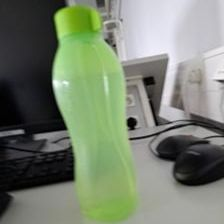bottle: (51, 3, 140, 223)
